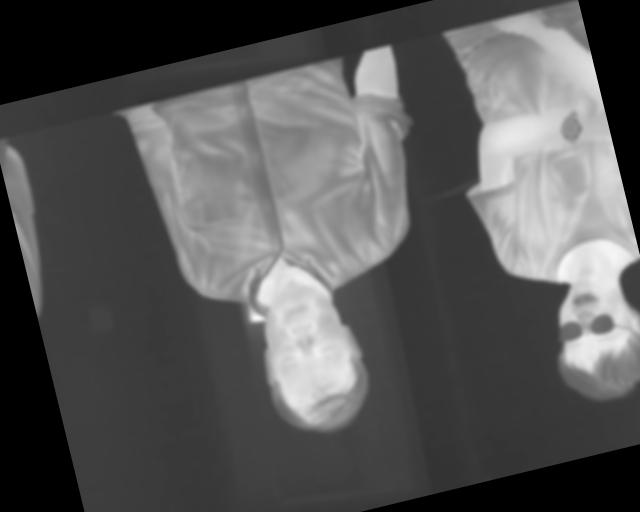face: (245, 272, 381, 445), (542, 265, 640, 411)
